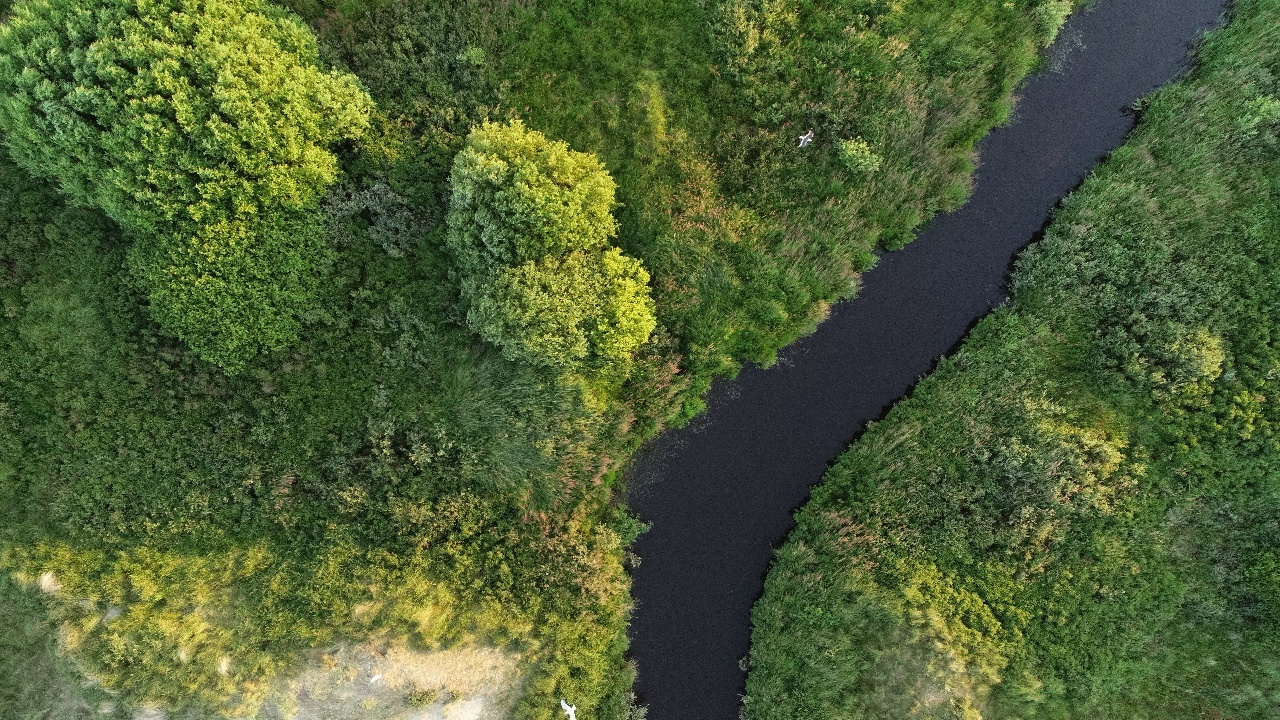Bird: (792, 126, 821, 151), (554, 695, 583, 720), (360, 667, 387, 688)
